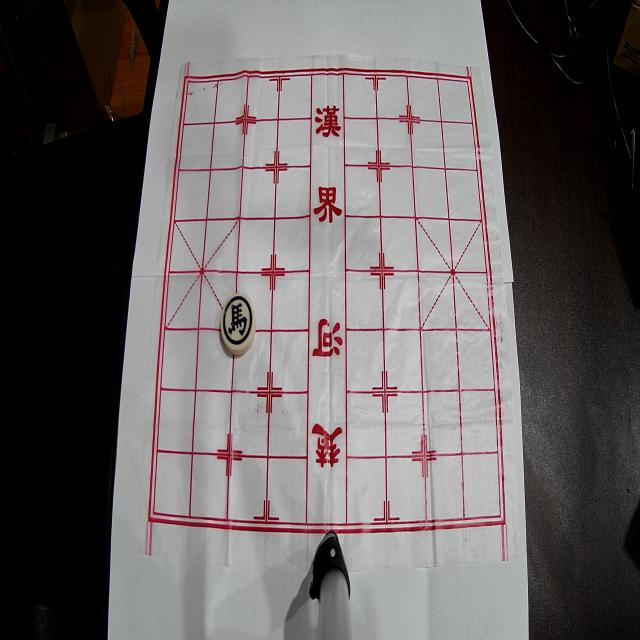black-horse: (220, 293, 256, 355)
